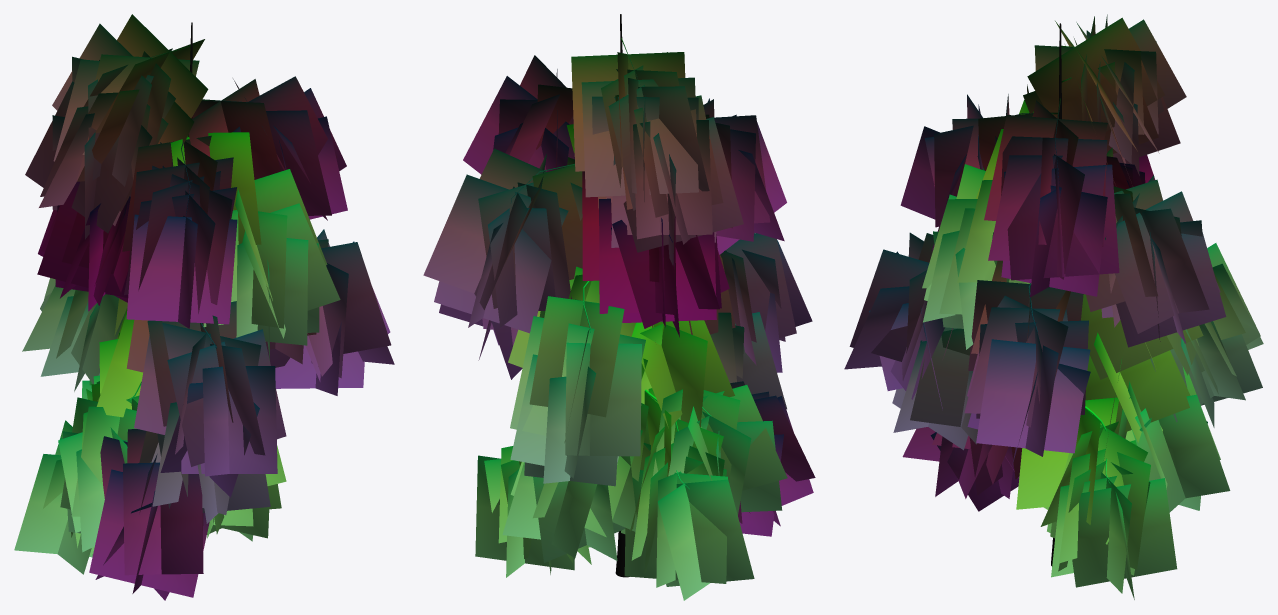
Rendered from URP_P13_Tree_2_LOD_0.fbx.
3 views of the same model, side by side, from view 1: azimuth 30°, elevation 25°; view 2: azimuth 150°, elevation 25°; view 3: azimuth 270°, elevation 25° (orthographic). The views are drawn at different scales.
Visible parts, largest first — view 1: Tree_2_LOD_0; view 2: Tree_2_LOD_0; view 3: Tree_2_LOD_0.
Part boxes in pixels (box(x1,y1,x2,y2)): Tree_2_LOD_0: box(14, 14, 394, 600); Tree_2_LOD_0: box(423, 14, 815, 600); Tree_2_LOD_0: box(844, 14, 1263, 599).
Bounding box in the file's own units: 392 × 602 × 421.
